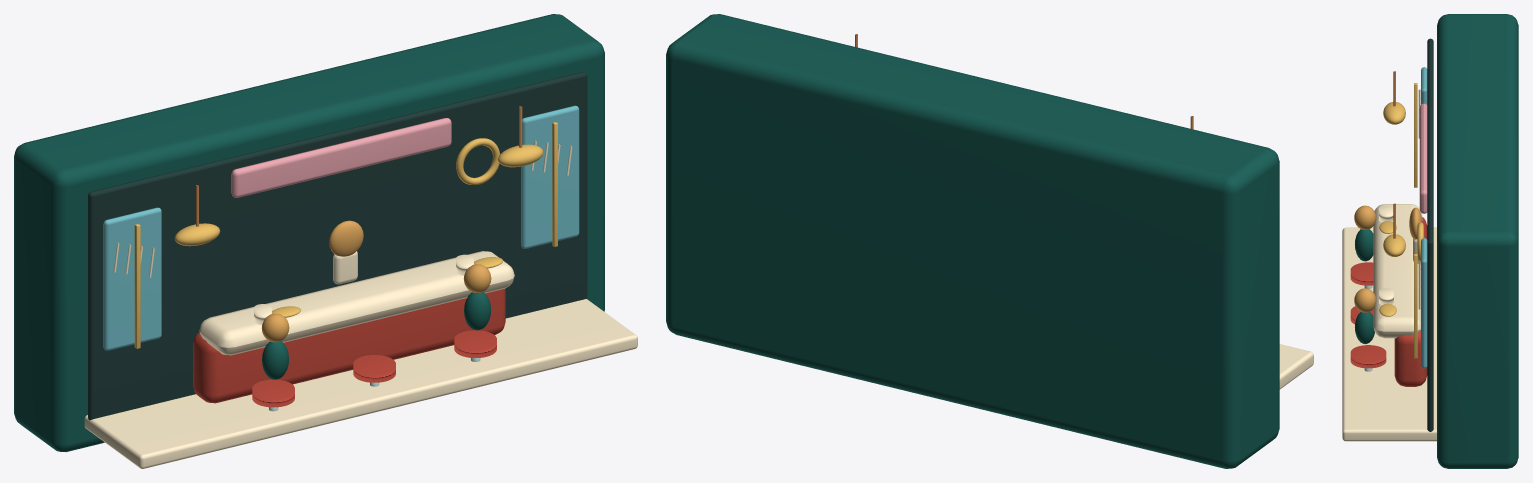
3 views of the same model, side by side, from view 1: azimuth 30°, elevation 25°; view 2: azimuth 150°, elevation 25°; view 3: azimuth 270°, elevation 25° (orthographic). The views are drawn at different scales.
Visible parts, largest first — view 1: Midnight interior, Diorama shadow box, Tiny diner floor, Mini counter front, Neon window, After hours sign, Clock, Tiny cook, Guest coat.001, Guest coat, Tiny apron, Guest face (+1 smaller); view 2: Diorama shadow box, Tiny diner floor; view 3: Diorama shadow box, Tiny diner floor, Mini counter front, Midnight interior, Clock, Neon window, After hours sign, Guest coat.001, Guest coat, Guest face.001, Guest face, Tiny cook (+1 smaller).
Boxes of the visible parts, <box> form: Midnight interior: <box>88,72,587,420</box>; Diorama shadow box: <box>14,14,604,451</box>; Tiny diner floor: <box>84,140,637,468</box>; Mini counter front: <box>193,288,505,407</box>; Neon window: <box>103,105,579,350</box>; After hours sign: <box>231,118,451,197</box>; Clock: <box>134,122,557,348</box>; Tiny cook: <box>329,220,363,256</box>; Guest coat.001: <box>464,292,490,330</box>; Guest coat: <box>262,341,288,379</box>; Tiny apron: <box>333,251,357,284</box>; Guest face: <box>261,313,289,342</box>; Diorama shadow box: <box>666,14,1279,468</box>; Tiny diner floor: <box>1279,344,1313,389</box>; Diorama shadow box: <box>1437,14,1518,468</box>; Tiny diner floor: <box>1342,89,1436,441</box>; Mini counter front: <box>1350,217,1427,386</box>; Midnight interior: <box>1427,38,1433,431</box>; Clock: <box>1379,83,1423,358</box>; Neon window: <box>1421,67,1427,368</box>; After hours sign: <box>1419,103,1427,213</box>; Guest coat.001: <box>1355,312,1374,344</box>; Guest coat: <box>1355,229,1373,261</box>; Guest face.001: <box>1354,288,1376,312</box>; Guest face: <box>1354,205,1376,229</box>; Tiny cook: <box>1409,207,1422,239</box>.
Size of the model in its own units: 1.64 by 0.8 by 0.54.
